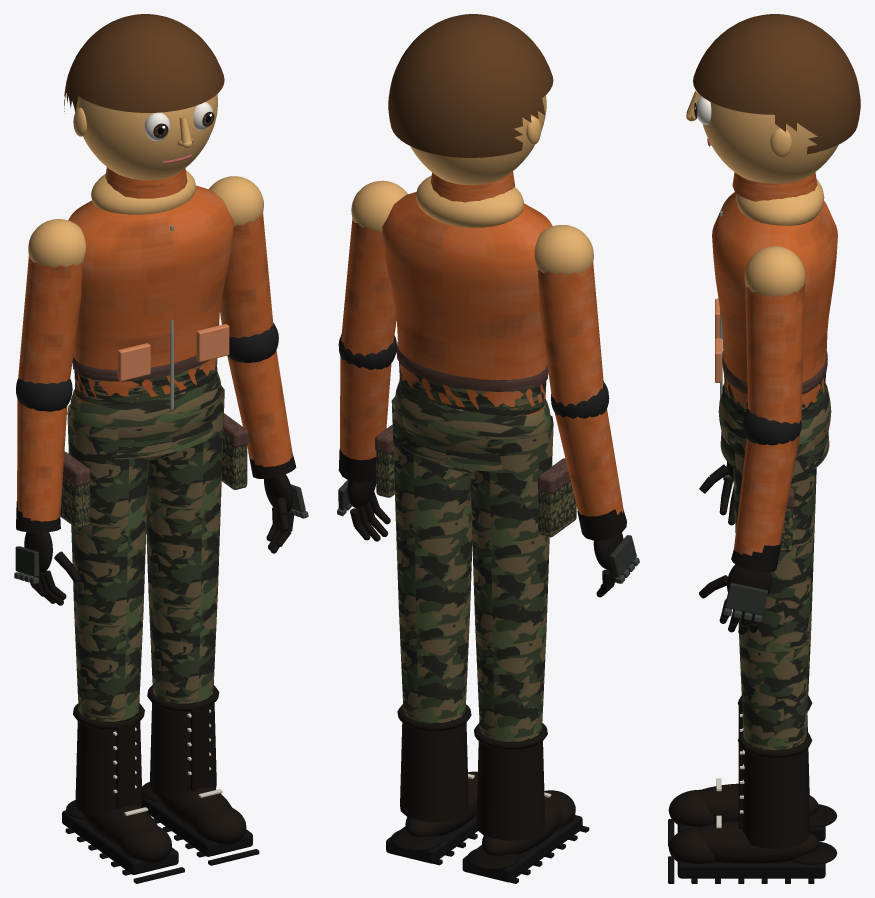
Rendered from 05-coudieres.glb.
3 views of the same model, side by side, from view 1: azimuth 30°, elevation 25°; view 2: azimuth 150°, elevation 25°; view 3: azimuth 270°, elevation 25° (orthographic). The views are drawn at different scales.
Size of the model in its own units: 0.6344 by 1.77 by 0.3715.
27 materials, 4 textured.
